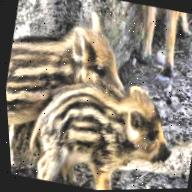boar: (20, 57, 187, 192), (1, 9, 142, 145)
